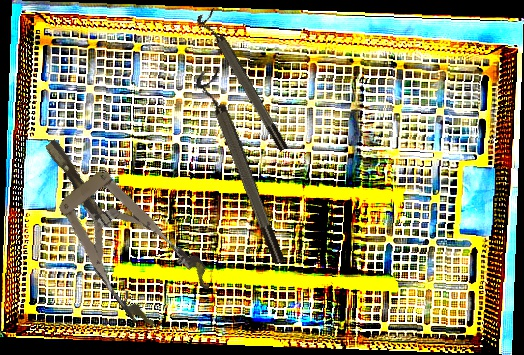Fixation Ring: (192, 65, 289, 270), (195, 7, 291, 157)
Speculum: (14, 113, 218, 338)
